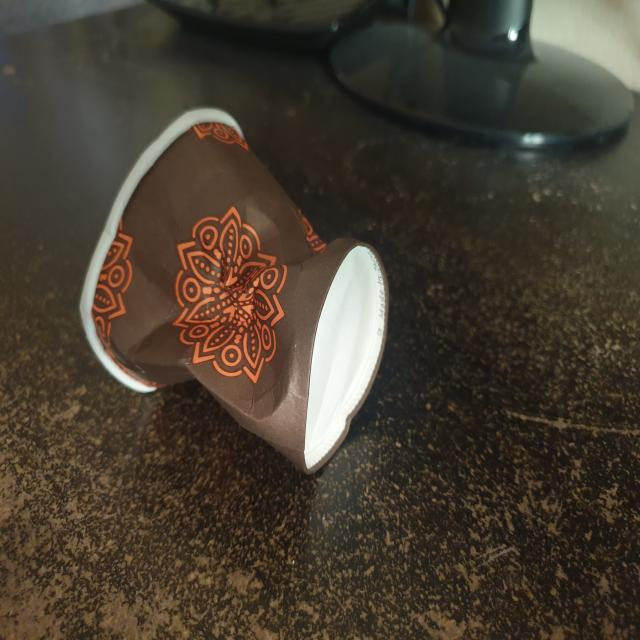cups: (80, 90, 395, 482)
